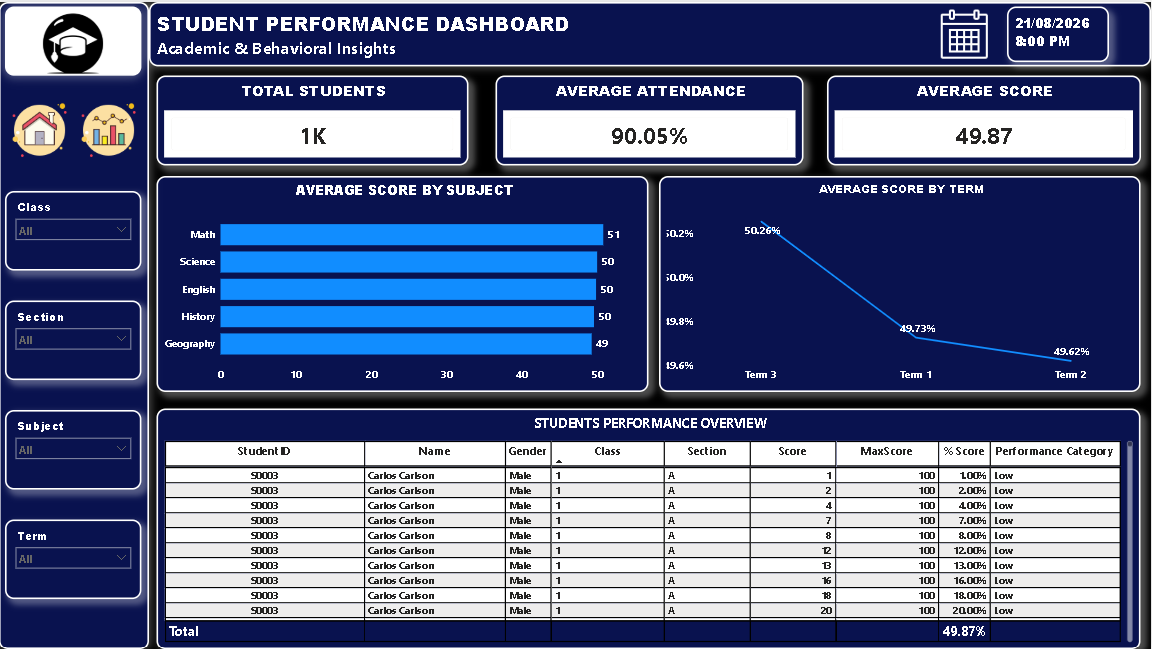

Layout of this report page (visuals, bound fields, positions):
{"tool":"powerbi","page":{"name":"STUDENTS PERFORMANCE DASHBOARD","canvas":[1920,1080],"ordinal":0},"visuals":[{"type":"clusteredBarChart","title":"AVERAGE SCORE BY SUBJECT","fields":{"Category":["Scores_data.Subject"],"Y":["All Measures.Average Score per Subject"]},"box":[262.5,290,820,360],"z":0},{"type":"lineChart","title":"AVERAGE SCORE BY TERM","fields":{"Category":["Scores_data.Term"],"Y":["All Measures.Average % Score"]},"box":[1100,290,802.5,360],"z":1000},{"type":"textbox","box":[0,0,250,1080],"z":2000},{"type":"textbox","box":[250,0,1670,107.5],"z":3000},{"type":"image","box":[10,7.5,227.5,115],"z":4000},{"type":"cardVisual","title":"TOTAL STUDENTS","fields":{"Data":["All Measures.Total Students"]},"box":[263.3,123.3,520,150],"z":5000},{"type":"cardVisual","title":"AVERAGE ATTENDANCE","fields":{"Data":["All Measures.Average Attendance"]},"box":[826.7,123.3,513.3,150],"z":6000},{"type":"cardVisual","title":"AVERAGE SCORE","fields":{"Data":["All Measures.Avg Score"]},"box":[1380,123.3,523.3,150],"z":7000},{"type":"slicer","fields":{"Values":["Scores_data.Term"]},"box":[10,862.5,227.5,132.5],"z":8000},{"type":"slicer","fields":{"Values":["Scores_data.Subject"]},"box":[10,680,227.5,132.5],"z":9000},{"type":"slicer","fields":{"Values":["Students_data.Section"]},"box":[10,497.5,227.5,132.5],"z":10000},{"type":"slicer","fields":{"Values":["Students_data.Class"]},"box":[10,315,227.5,132.5],"z":11000},{"type":"tableEx","title":"STUDENTS PERFORMANCE OVERVIEW","fields":{"Values":["Scores_data.StudentID","Students_data.Name","Students_data.Gender","Students_data.Class","Students_data.Section","Scores_data.Score","Scores_data.MaxScore","All Measures.% Score","Scores_data.Performance Category"]},"box":[262.5,677.5,1640,402.5],"z":12000},{"type":"textbox","box":[1679.1,7.5,170,92.5],"z":12002},{"type":"image","box":[1559.1,12.5,97.5,85],"z":12003},{"type":"image","box":[10,155,115,117.5],"z":12004},{"type":"image","box":[125,155,115,117.5],"z":12005}]}

Visuals, with their boxes in screenshot pixels (x1, y1, x2, y2), scaled from the page's 1920x1080 canvas onto the 1152x649 screenshot:
"AVERAGE SCORE BY SUBJECT" clusteredBarChart: <region>158, 174, 650, 391</region>
"AVERAGE SCORE BY TERM" lineChart: <region>660, 174, 1142, 391</region>
textbox: <region>0, 0, 150, 648</region>
textbox: <region>150, 0, 1151, 65</region>
image: <region>6, 5, 142, 74</region>
"TOTAL STUDENTS" cardVisual: <region>158, 74, 470, 164</region>
"AVERAGE ATTENDANCE" cardVisual: <region>496, 74, 804, 164</region>
"AVERAGE SCORE" cardVisual: <region>828, 74, 1142, 164</region>
slicer - Scores_data.Term: <region>6, 518, 142, 598</region>
slicer - Scores_data.Subject: <region>6, 409, 142, 488</region>
slicer - Students_data.Section: <region>6, 299, 142, 379</region>
slicer - Students_data.Class: <region>6, 189, 142, 269</region>
"STUDENTS PERFORMANCE OVERVIEW" tableEx: <region>158, 407, 1142, 648</region>
textbox: <region>1007, 5, 1109, 60</region>
image: <region>935, 8, 994, 59</region>
image: <region>6, 93, 75, 164</region>
image: <region>75, 93, 144, 164</region>
